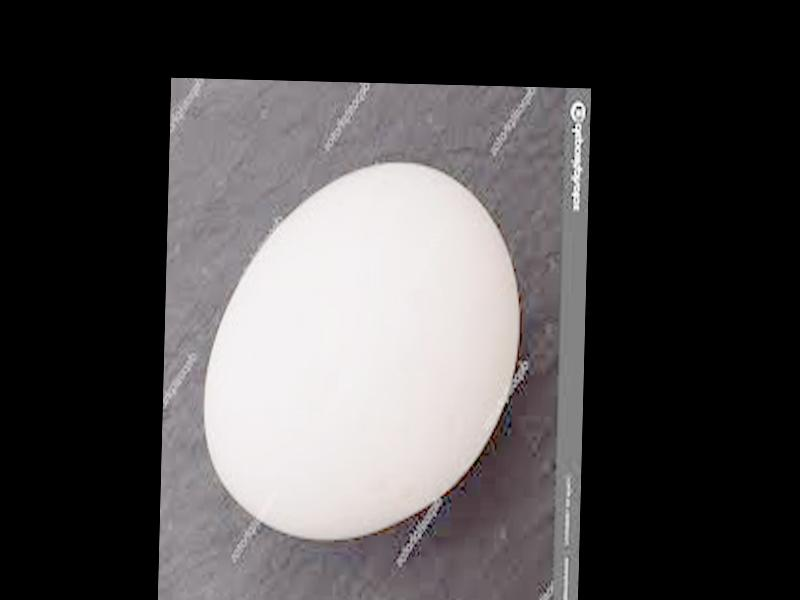Eggs: (203, 158, 523, 544)
